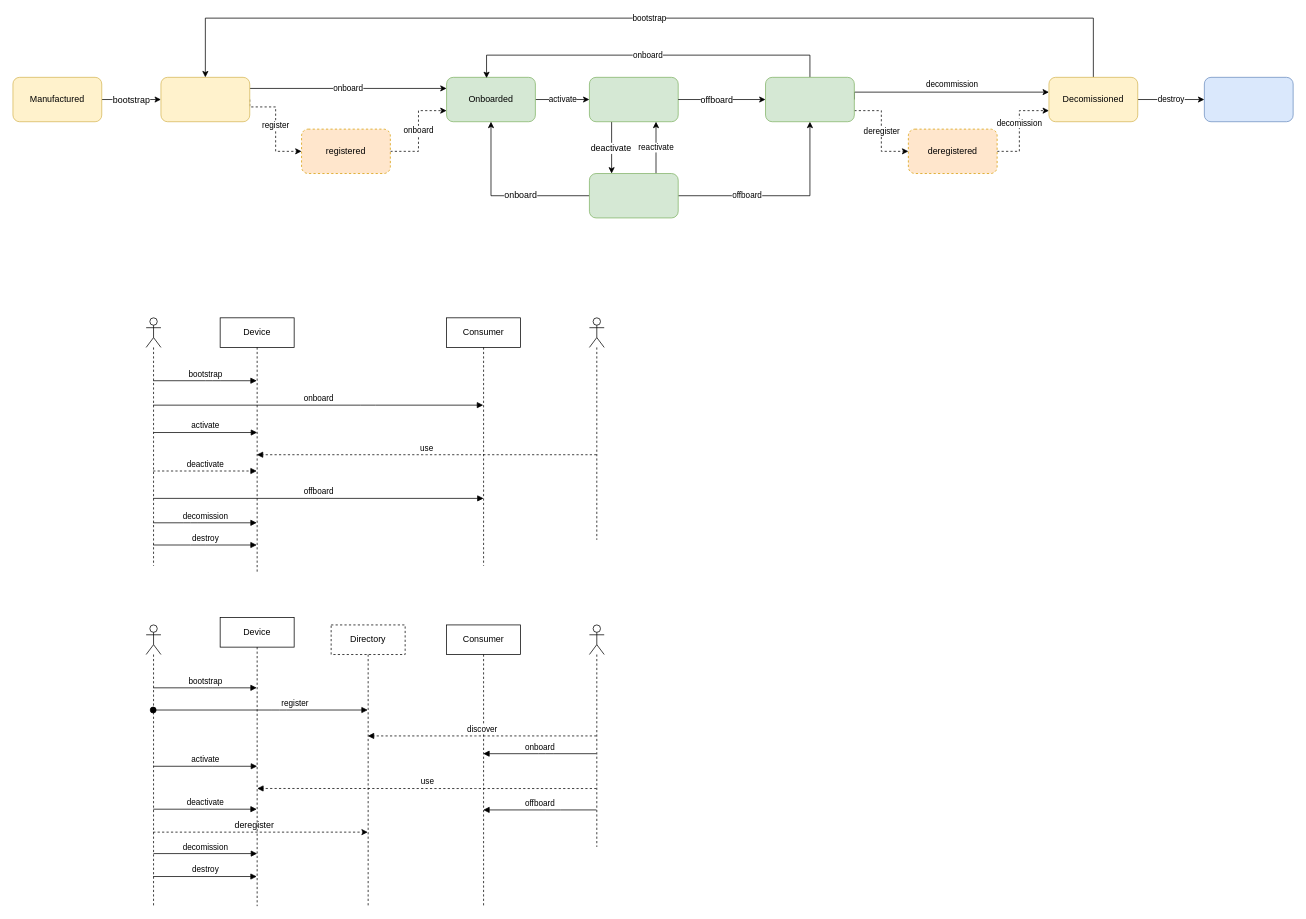
Some shapes in this 1306 by 919 pixel diagram are drawn without their labels. Here are the shapes that lost their labels. From the top down, the box of each, then its label:
(160, 77, 250, 122): Bootstrapped
(589, 77, 678, 122): Activated Operational
(765, 77, 854, 122): Offboarded
(1204, 77, 1293, 122): Destroyed
(589, 173, 678, 218): Deactivated Maintenance
